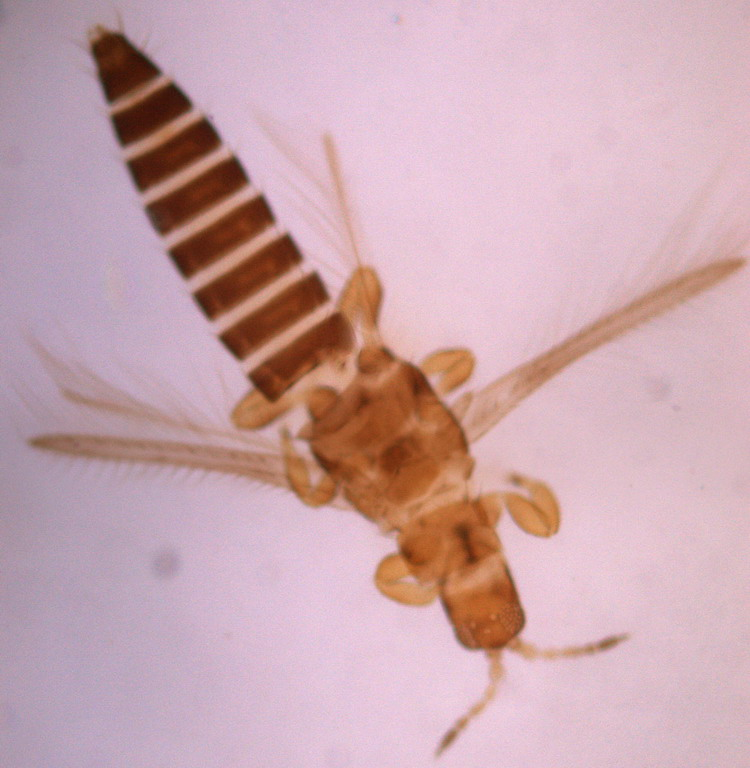Thripidae: (20, 12, 743, 763)
